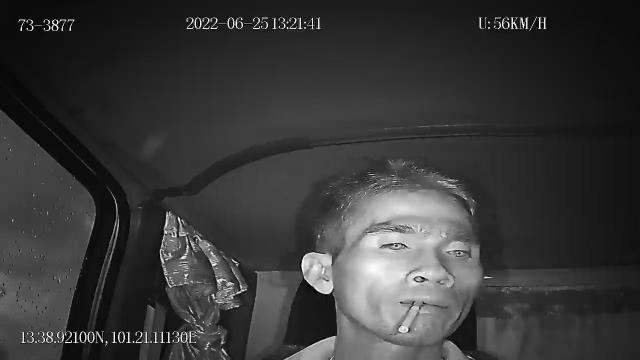SafeDriving: (373, 232, 417, 256), (436, 238, 478, 262)
Smoking: (398, 300, 422, 334)
